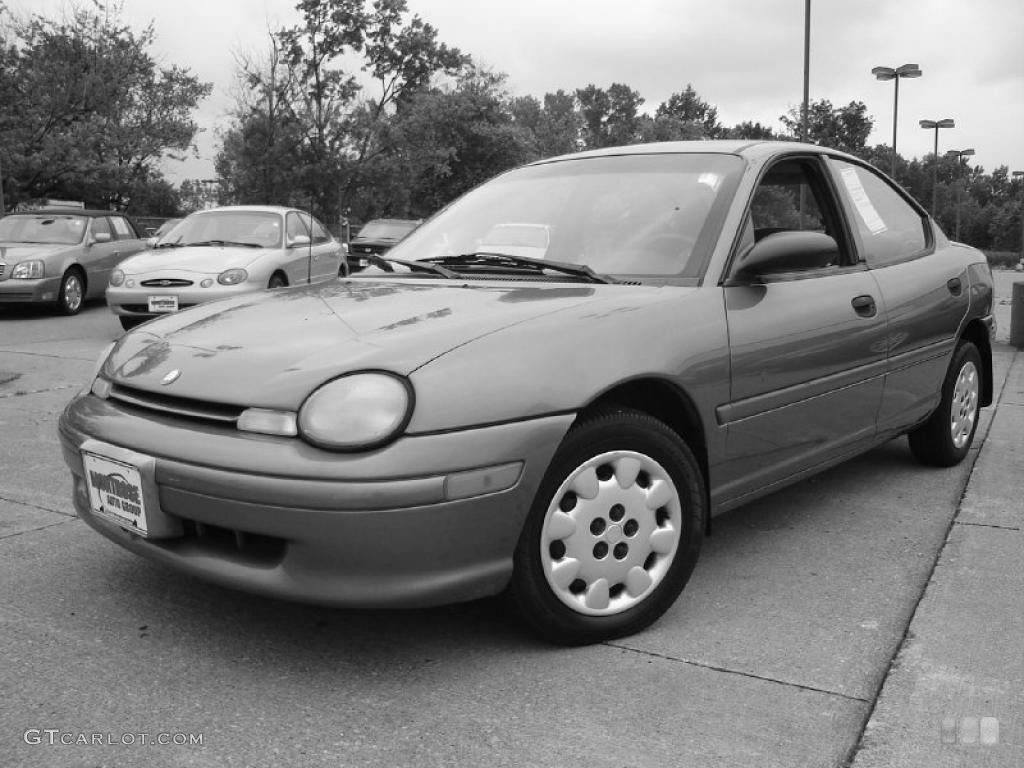car: (59, 139, 1003, 644)
